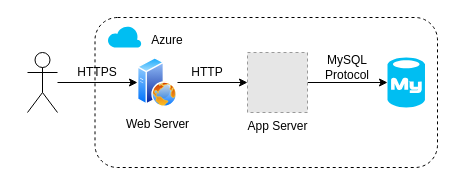
This 455x185 diagram has some shape labels left out. Grey dashed boxes stand in for pictures. The box of each missing label's shape, as (x1, y1, x2, y2) in pixels:
End-User: (26, 52, 58, 112)
MySQL: (387, 57, 424, 107)
